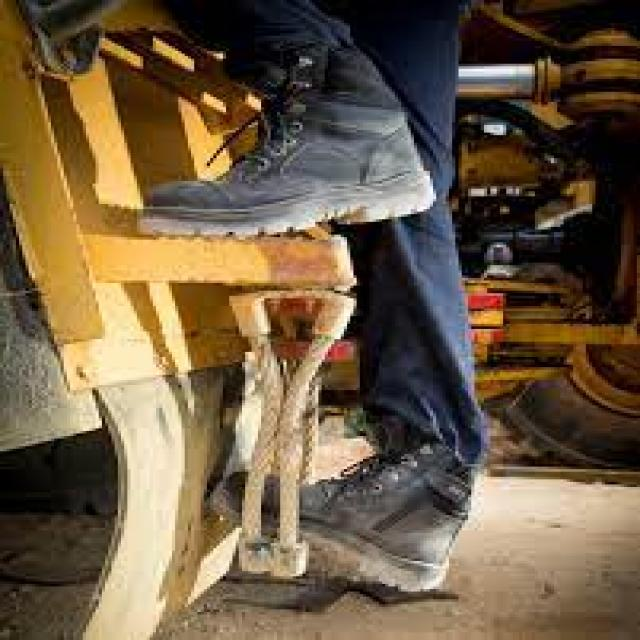shoes: (136, 51, 434, 237), (212, 438, 484, 594)
